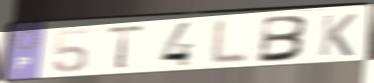4: (155, 20, 199, 68)
5: (50, 26, 93, 74)
B: (255, 14, 313, 65)
K: (316, 12, 359, 58)
L: (206, 17, 252, 67)
T: (103, 23, 149, 71)
